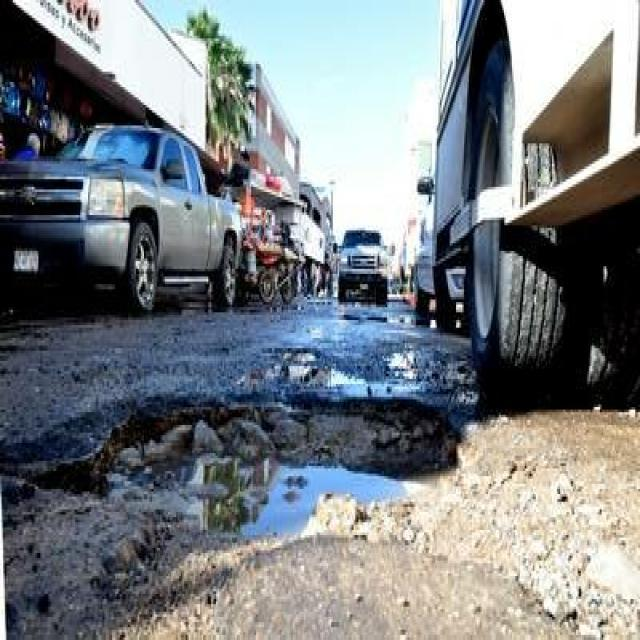pothole: (5, 374, 480, 579), (271, 315, 346, 374)
